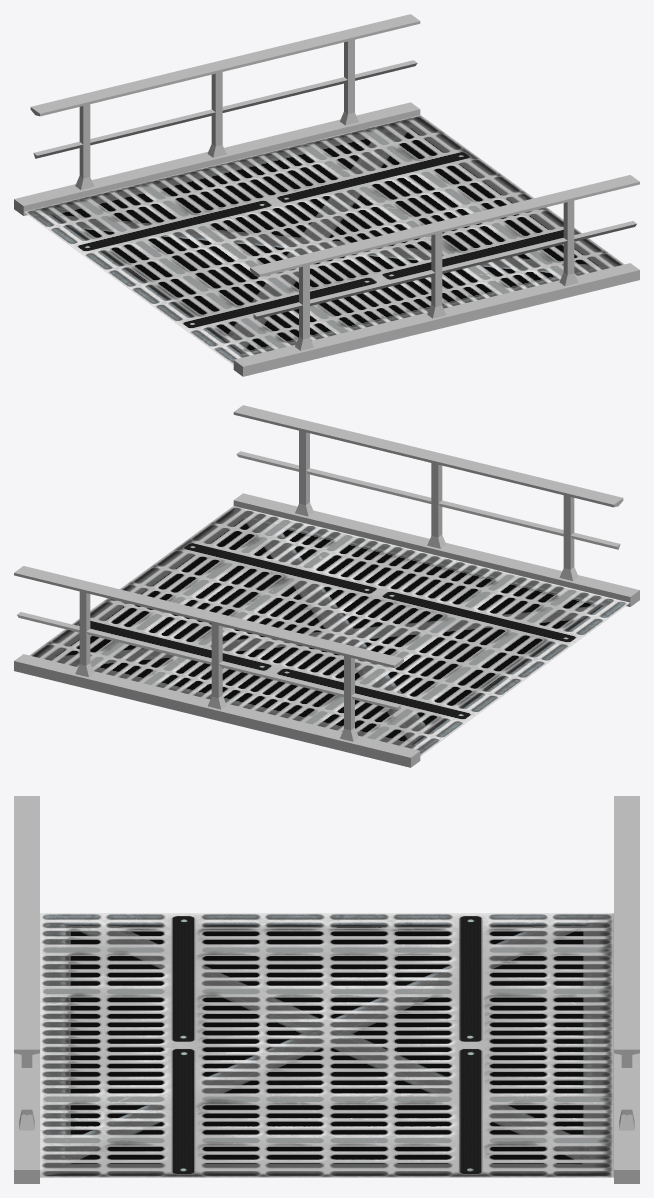
File: PlateForm_Line_05.FBX
3 views of the same model, one above another, from view 1: azimuth 30°, elevation 25°; view 2: azimuth 150°, elevation 25°; view 3: azimuth 270°, elevation 25° (orthographic). The views are drawn at different scales.
Parts seen in each view (by area): view 1: PlateForm_Line_05; view 2: PlateForm_Line_05; view 3: PlateForm_Line_05.
Boxes of the visible parts, <box> form: PlateForm_Line_05: <box>14,14,639,376</box>; PlateForm_Line_05: <box>14,405,639,767</box>; PlateForm_Line_05: <box>14,796,639,1183</box>.
Size of the model in its own units: 6 by 1.42 by 6.
